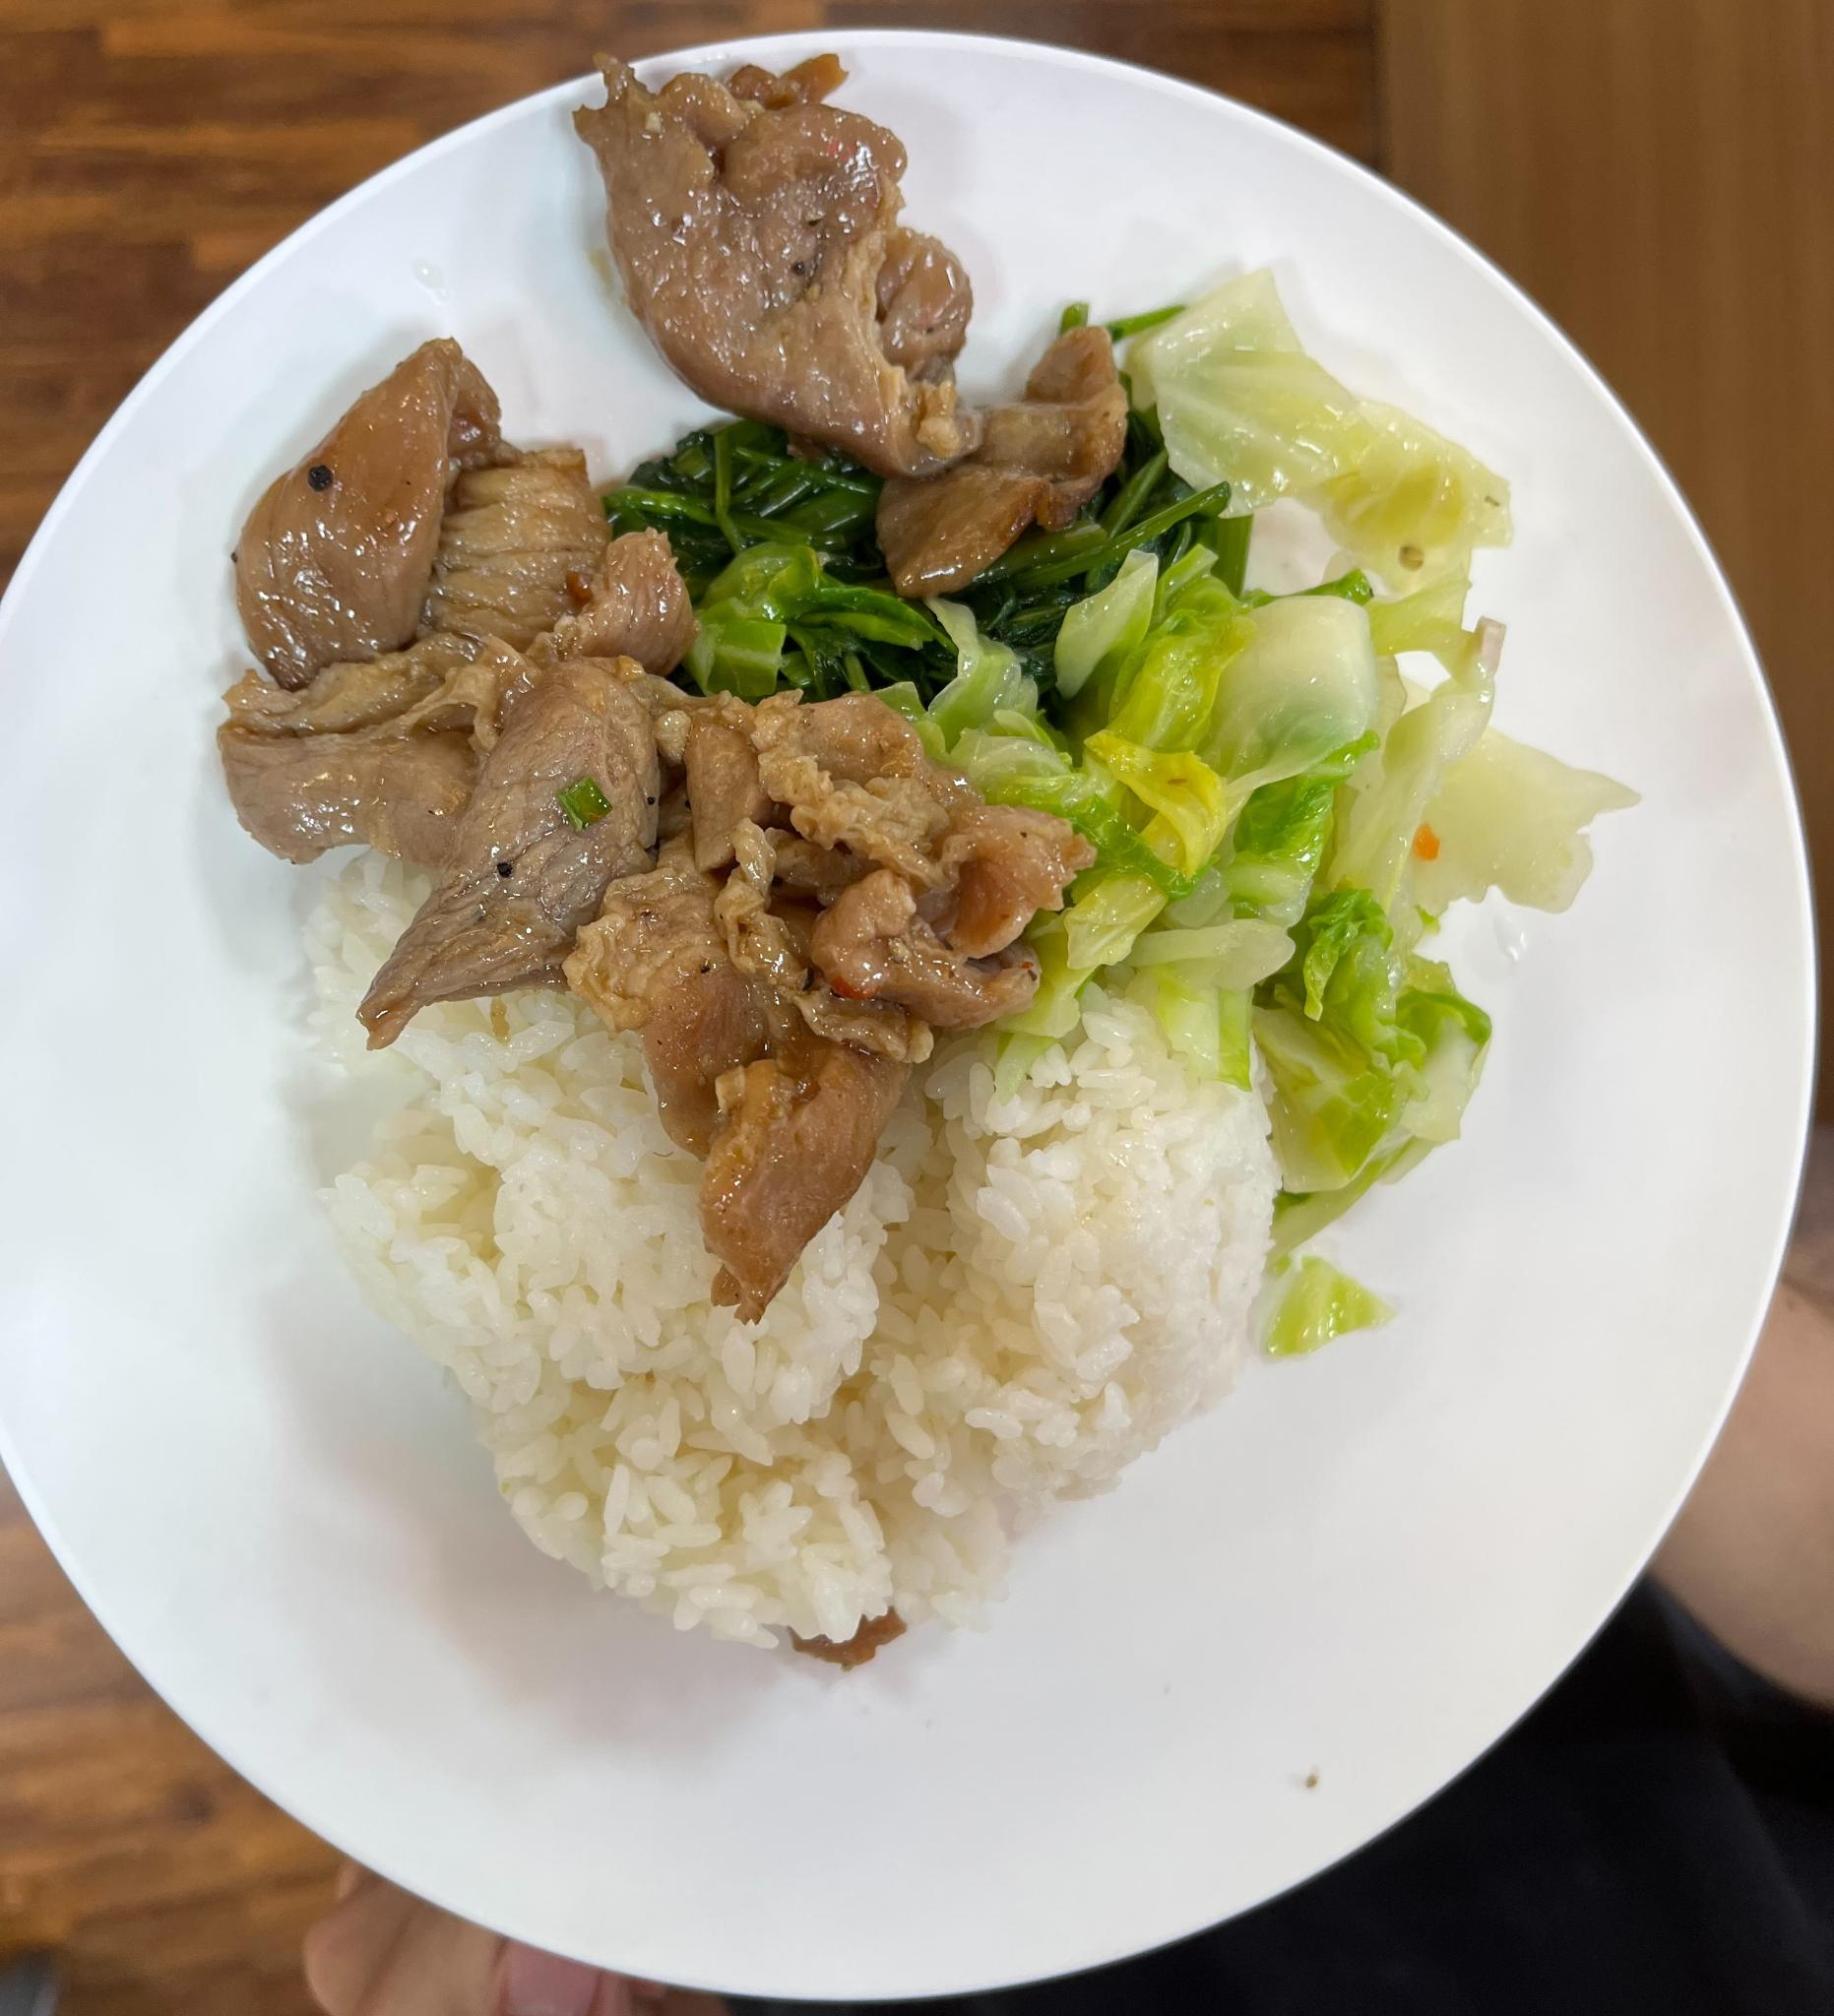big fried chicken leg: (7, 19, 1822, 1997)
big herbal chicken leg: (329, 869, 1303, 1686)
braised fish fillet: (1033, 553, 1579, 1303), (573, 365, 1254, 755)
braised pork: (251, 79, 1123, 1245)
